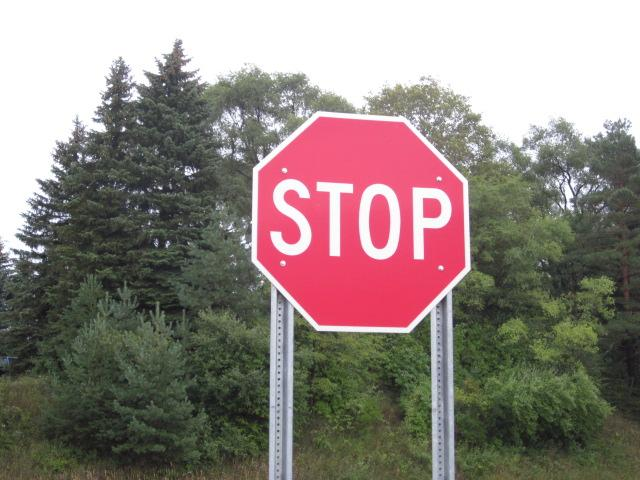stop: (250, 107, 476, 335)
